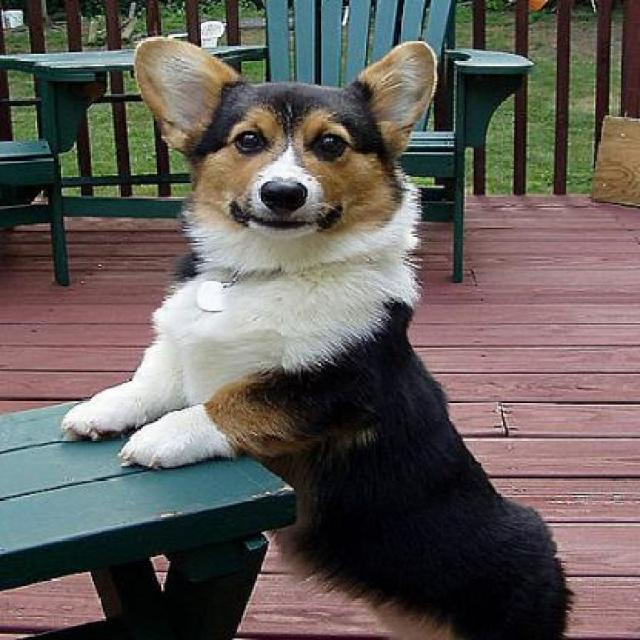Dog: (54, 36, 583, 638)
